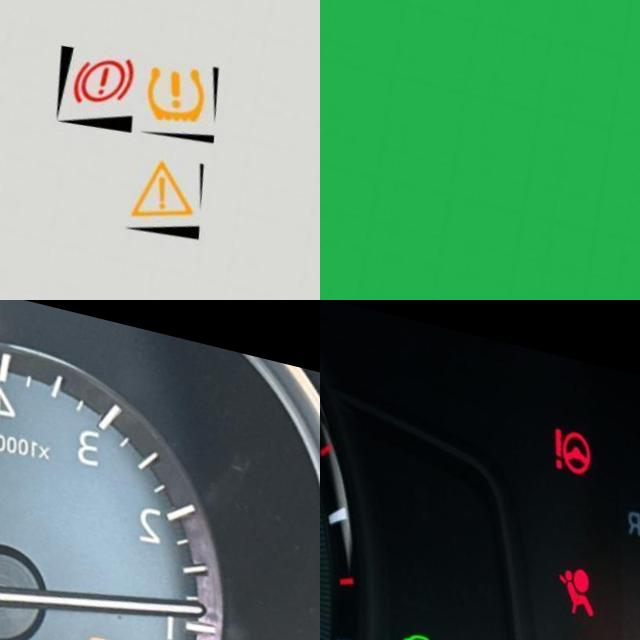Electronic Power Steering: (550, 407, 604, 464)
Seat Belt: (572, 616, 612, 640)
